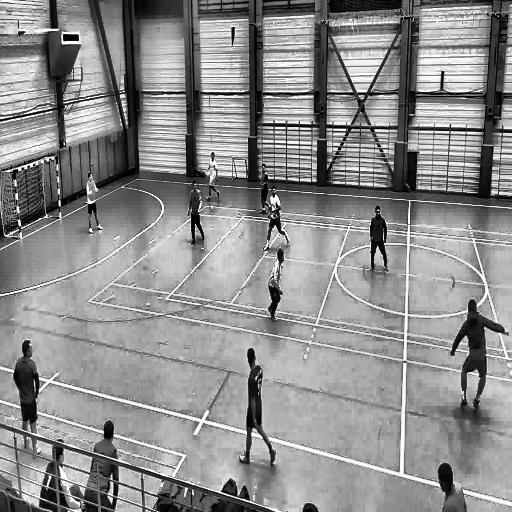player: (450, 295, 510, 414), (238, 346, 276, 470), (264, 186, 290, 252), (264, 248, 285, 324), (368, 203, 389, 276), (187, 179, 205, 246), (85, 170, 103, 236), (205, 151, 222, 204), (259, 162, 273, 216)
